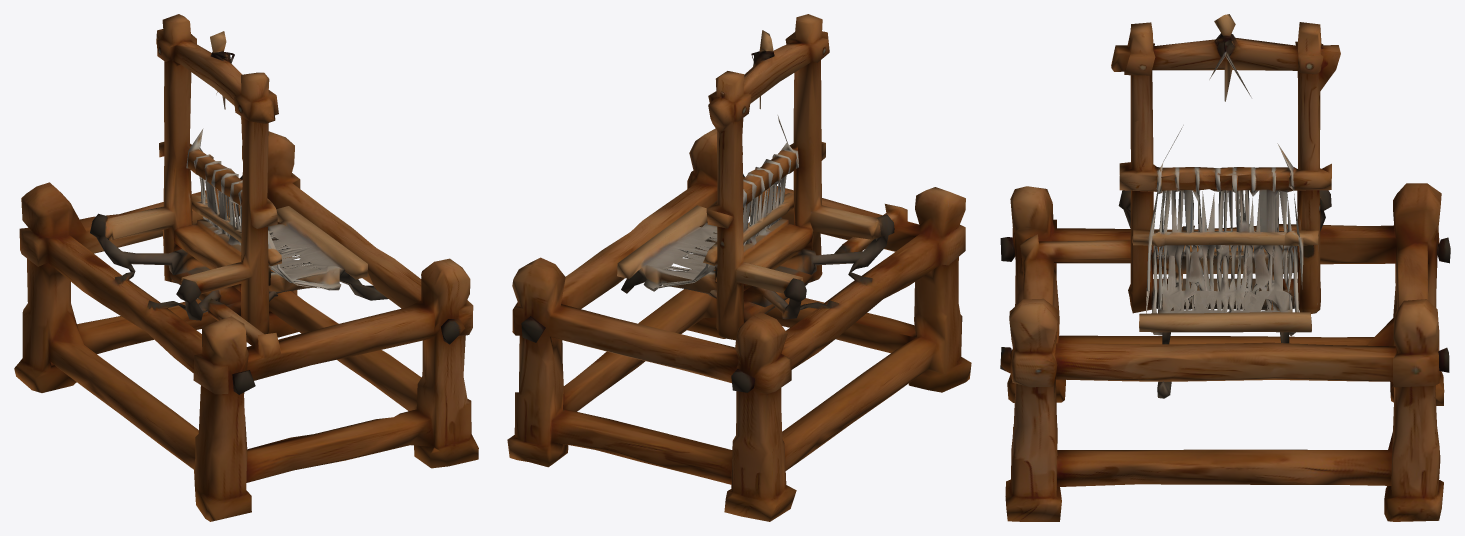
The model's file is loom.glb.
The picture shows the model from 3 angles, left to right: view 1: azimuth 30°, elevation 25°; view 2: azimuth 150°, elevation 25°; view 3: azimuth 270°, elevation 25°; orthographic projection. The views are drawn at different scales.
Visible parts, largest first — view 1: tripo_node_b641534e-4f04-43a0-9db6-36f0f2ec2856; view 2: tripo_node_b641534e-4f04-43a0-9db6-36f0f2ec2856; view 3: tripo_node_b641534e-4f04-43a0-9db6-36f0f2ec2856.
Boxes of the visible parts, x1=… form: tripo_node_b641534e-4f04-43a0-9db6-36f0f2ec2856: x1=14, y1=14, x2=478, y2=521; tripo_node_b641534e-4f04-43a0-9db6-36f0f2ec2856: x1=507, y1=14, x2=971, y2=521; tripo_node_b641534e-4f04-43a0-9db6-36f0f2ec2856: x1=1000, y1=14, x2=1450, y2=521.
Size of the model in its own units: 0.731 by 1 by 0.9596.
1 material, 1 textured.
